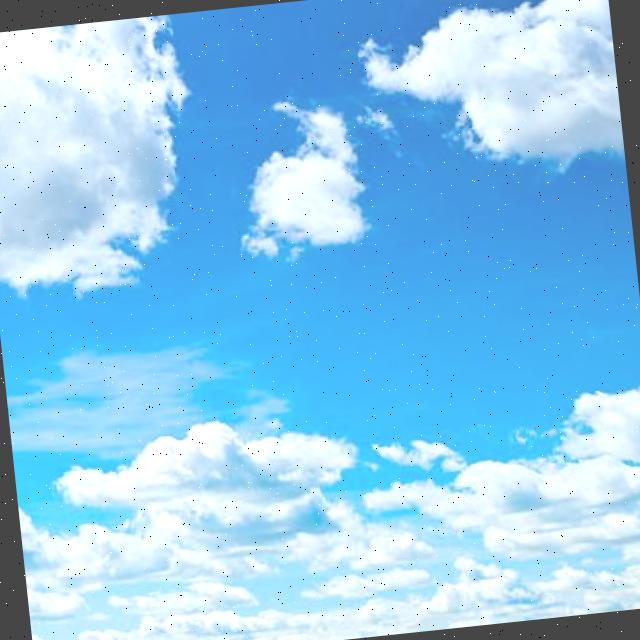Cc: (1, 1, 639, 357)
